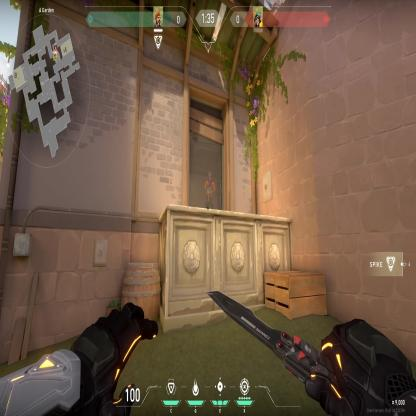enemy: (203, 169, 216, 210)
